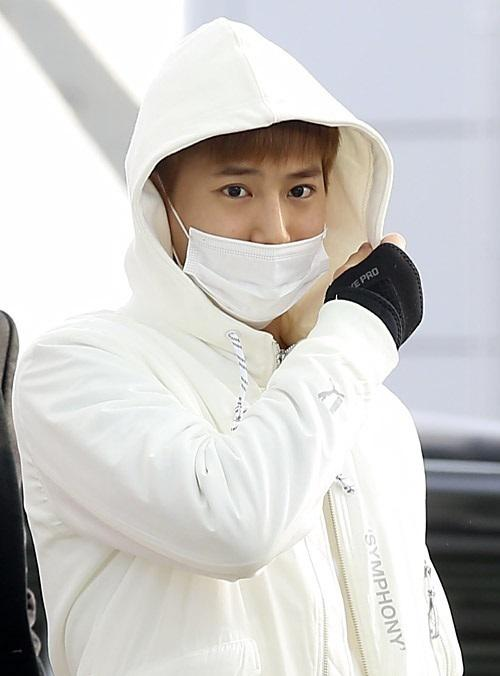WRONG: (178, 148, 328, 313)
